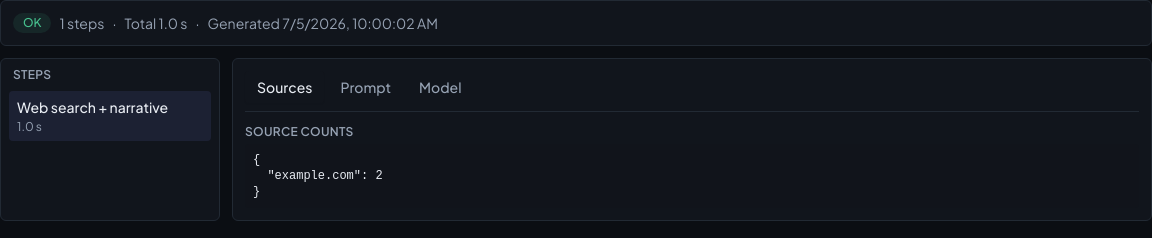
Test case: AgentTracePanel › only shows detail tabs the selected step actually populated
The width and height of the screenshot is (1152, 238).
Check: the text "Web search + narrative" is shown, box left=17, top=97, right=168, bottom=117
Check: the text "{ \"example.com\": 2 }" is shown, box left=245, top=144, right=1139, bottom=208
Click the tab "Prompt" at [366, 87], box left=328, top=71, right=403, bottom=103
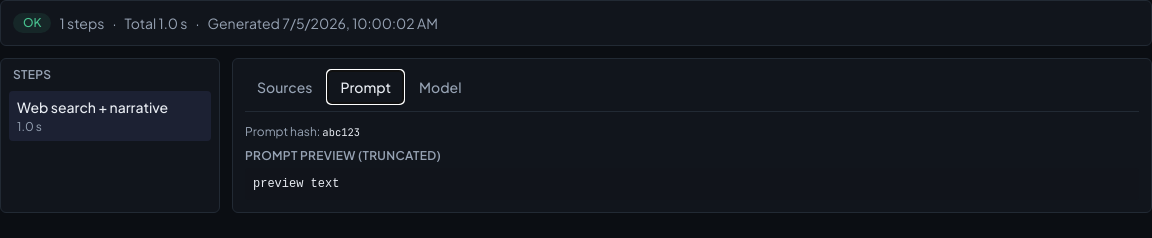
Check: the text "abc123" is shown, box left=322, top=125, right=360, bottom=139
Check: the text "preview text" is shown, box left=245, top=168, right=1139, bottom=200
Click the tab "Model" at [440, 87], box left=407, top=71, right=474, bottom=103
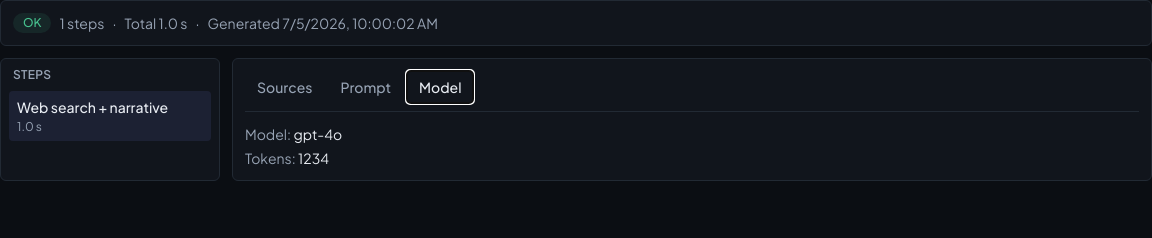
Check: the text "gpt-4o" is shown, box left=293, top=125, right=342, bottom=143
Check: the text "1234" is shown, box left=298, top=149, right=329, bottom=167
